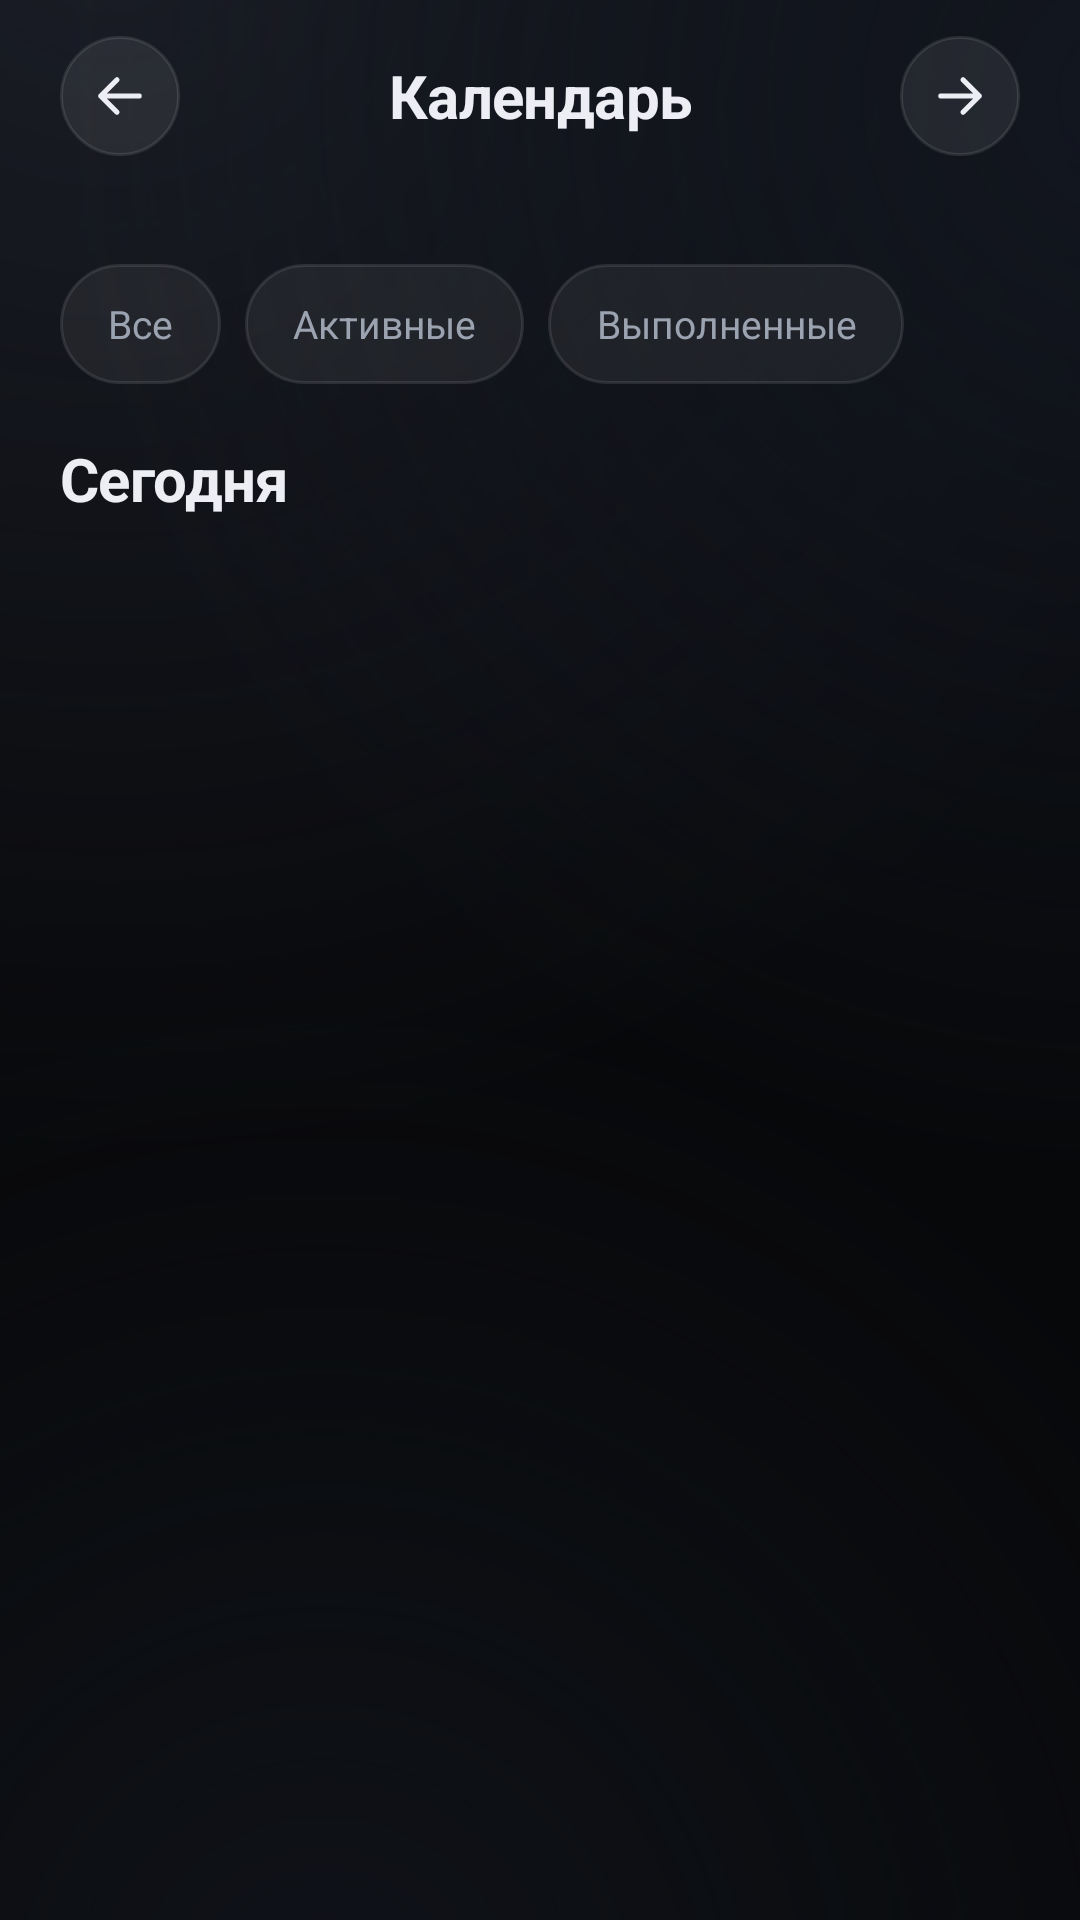

Point at icon controls on the screen. Image size 1080w x 1920h, points as (x=x, y=y).
Вчера: (x=120, y=96)
